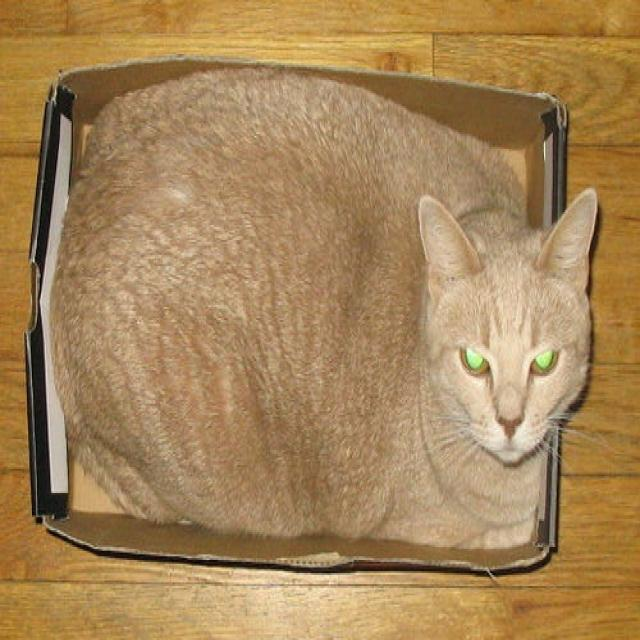cat: (50, 66, 599, 552)
